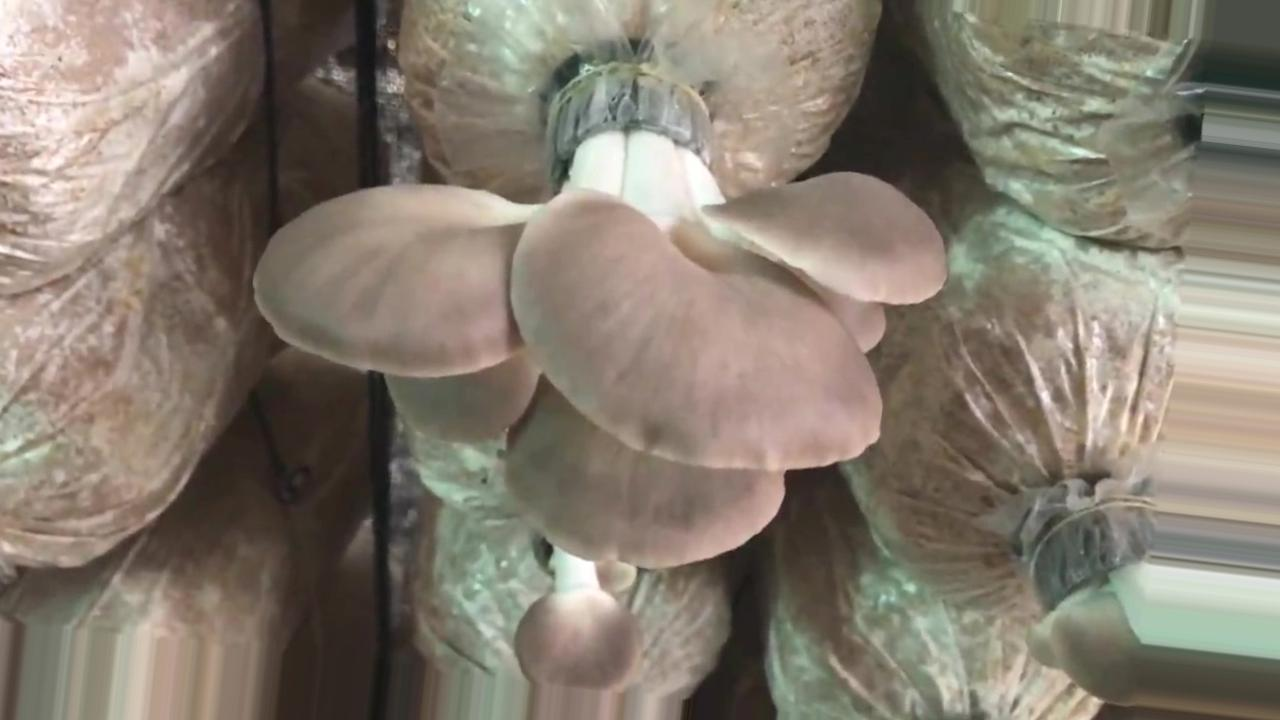nam: (257, 70, 946, 564), (1039, 496, 1280, 720), (516, 533, 642, 719)
